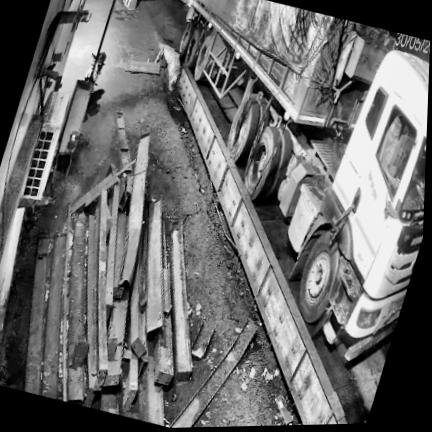tyre: (299, 231, 339, 323), (245, 126, 281, 202), (228, 97, 260, 165), (266, 130, 293, 201), (184, 25, 204, 70), (194, 35, 211, 82), (179, 22, 194, 62)
